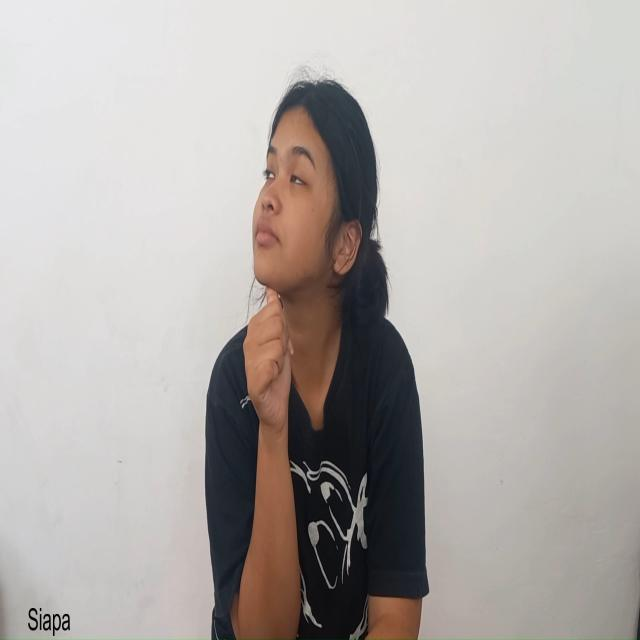Siapa -BISINDO-: (240, 74, 382, 437)
